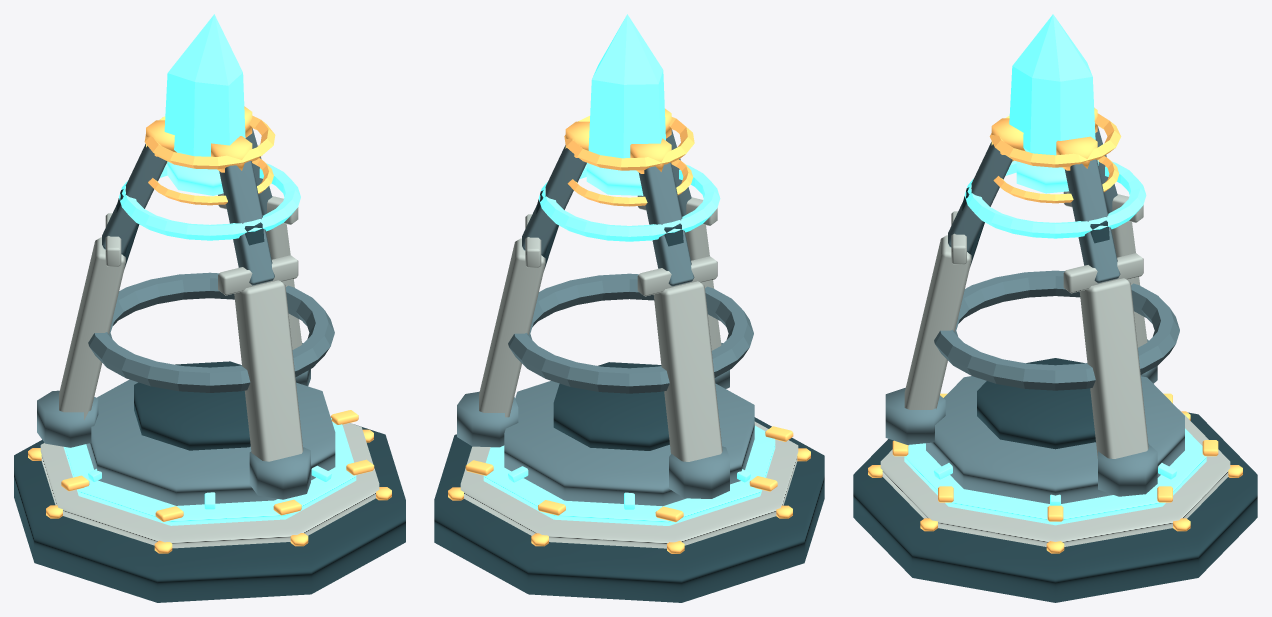
Rendered from resonance-relay.glb.
The picture shows the model from 3 angles, left to right: view 1: azimuth 30°, elevation 25°; view 2: azimuth 150°, elevation 25°; view 3: azimuth 270°, elevation 25°; orthographic projection.
Parts seen in each view (by area): view 1: Relay Blue Alloy assembly, Relay Graphite assembly, Relay Pale Ceramic assembly, RelaySignal assembly, Relay Core, Relay Neutral Amber assembly; view 2: Relay Blue Alloy assembly, Relay Graphite assembly, Relay Pale Ceramic assembly, RelaySignal assembly, Relay Core, Relay Neutral Amber assembly; view 3: Relay Blue Alloy assembly, Relay Graphite assembly, Relay Pale Ceramic assembly, RelaySignal assembly, Relay Core, Relay Neutral Amber assembly.
Boxes of the visible parts, x1,y1,x2,y2 form: Relay Blue Alloy assembly: [37, 128, 335, 505]; Relay Graphite assembly: [14, 189, 405, 602]; Relay Pale Ceramic assembly: [40, 193, 379, 548]; RelaySignal assembly: [63, 161, 356, 525]; Relay Core: [164, 14, 245, 156]; Relay Neutral Amber assembly: [28, 106, 391, 553]; Relay Blue Alloy assembly: [457, 129, 754, 506]; Relay Graphite assembly: [434, 190, 824, 602]; Relay Pale Ceramic assembly: [460, 195, 798, 548]; RelaySignal assembly: [483, 163, 775, 525]; Relay Core: [588, 14, 665, 158]; Relay Neutral Amber assembly: [448, 108, 810, 553]; Relay Blue Alloy assembly: [885, 126, 1184, 503]; Relay Graphite assembly: [853, 187, 1257, 602]; Relay Pale Ceramic assembly: [880, 191, 1230, 546]; RelaySignal assembly: [904, 160, 1206, 525]; Relay Core: [1009, 14, 1095, 155]; Relay Neutral Amber assembly: [868, 108, 1242, 553].
Size of the model in its own units: 2.06 by 2.84 by 2.06.
